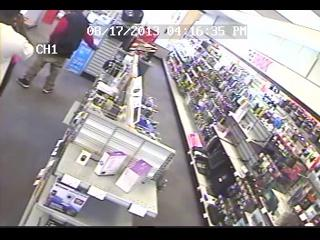Normal: (15, 12, 100, 94), (0, 13, 34, 97)
